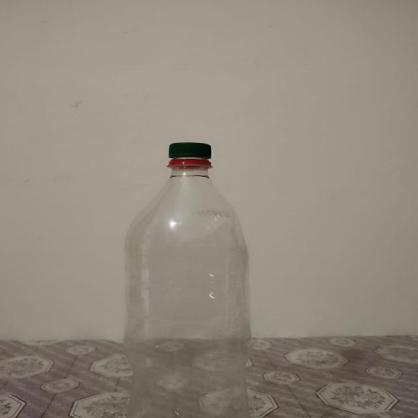bottle: (129, 141, 254, 418)
cap: (168, 141, 211, 167)
